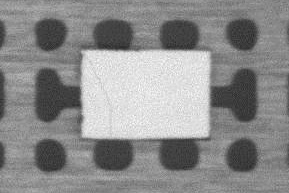DIE_CRACK: (84, 55, 112, 135)
